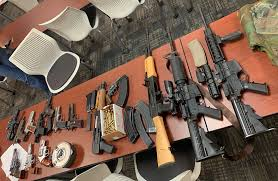gun: (198, 5, 275, 141), (92, 116, 116, 159), (7, 146, 30, 180), (66, 103, 87, 134), (53, 106, 67, 133)
